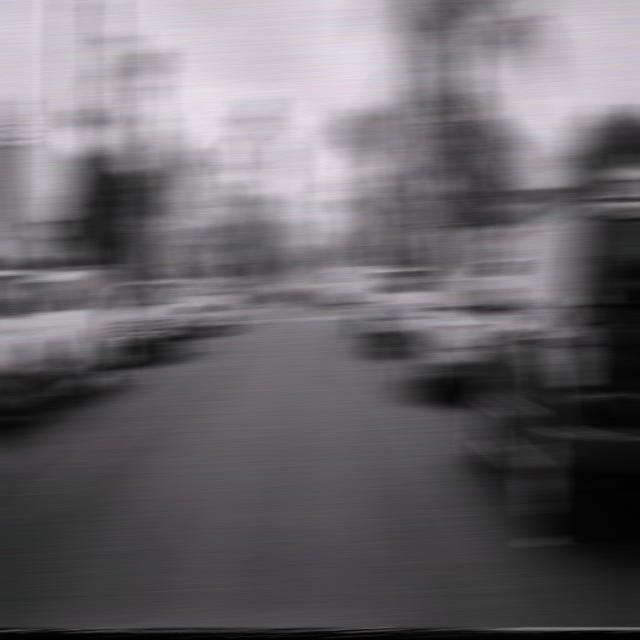stop: (372, 233, 399, 256)
